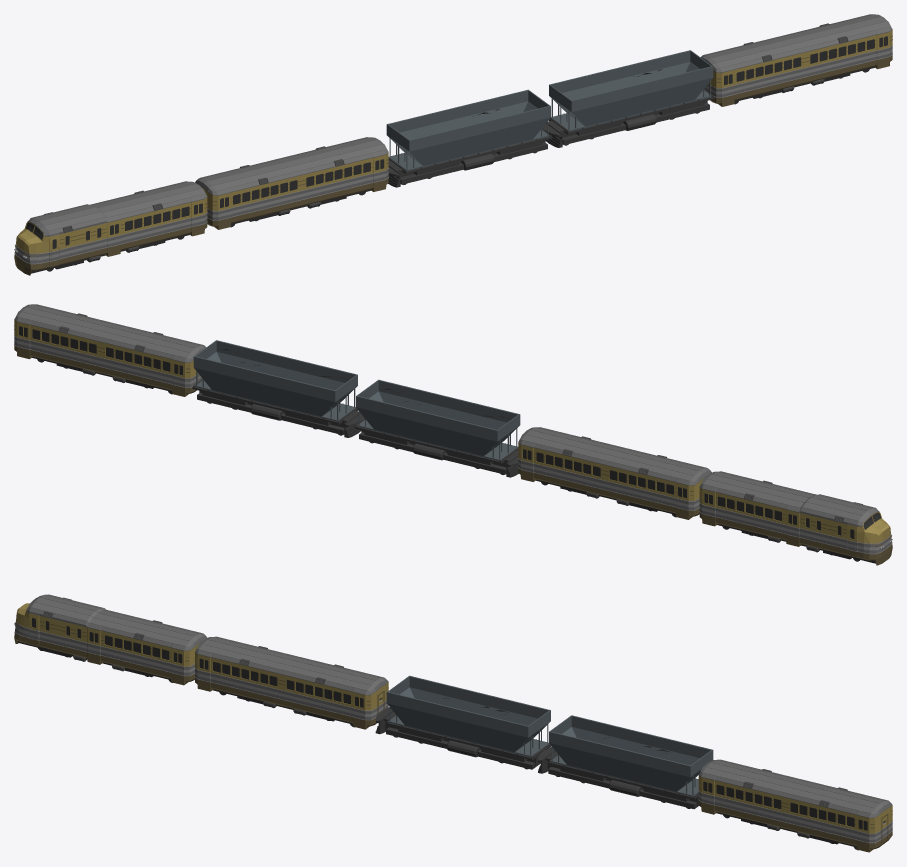
The model's file is fullTrain.glb.
The picture shows the model from 3 angles, top to bottom: view 1: azimuth 30°, elevation 25°; view 2: azimuth 150°, elevation 25°; view 3: azimuth 330°, elevation 25°; orthographic projection.
Parts seen in each view (by area): view 1: Train, Wagon_ContainerCoal.001, CargoTrain_Wagon, CargoTrain_Wagon.001, Wagon_ContainerCoal; view 2: Train, Wagon_ContainerCoal.001, CargoTrain_Wagon, CargoTrain_Wagon.001, Wagon_ContainerCoal; view 3: CargoTrain_Wagon.001, CargoTrain_Wagon, Wagon_ContainerCoal, Train, Wagon_ContainerCoal.001.
Part boxes in pixels (bbox=[...]): Train: bbox=[14, 181, 207, 275]; Wagon_ContainerCoal.001: bbox=[542, 50, 714, 147]; CargoTrain_Wagon: bbox=[195, 137, 388, 229]; CargoTrain_Wagon.001: bbox=[700, 14, 892, 106]; Wagon_ContainerCoal: bbox=[386, 89, 552, 187]; Train: bbox=[699, 471, 892, 565]; Wagon_ContainerCoal.001: bbox=[192, 340, 364, 437]; CargoTrain_Wagon: bbox=[518, 427, 711, 519]; CargoTrain_Wagon.001: bbox=[14, 304, 206, 396]; Wagon_ContainerCoal: bbox=[354, 379, 520, 477]; CargoTrain_Wagon.001: bbox=[698, 759, 892, 852]; CargoTrain_Wagon: bbox=[194, 636, 388, 729]; Wagon_ContainerCoal: bbox=[375, 675, 551, 769]; Train: bbox=[14, 594, 207, 685]; Wagon_ContainerCoal.001: bbox=[538, 715, 713, 809].
Bounding box in the file's own units: 49.6 × 2.72 × 2.25.
